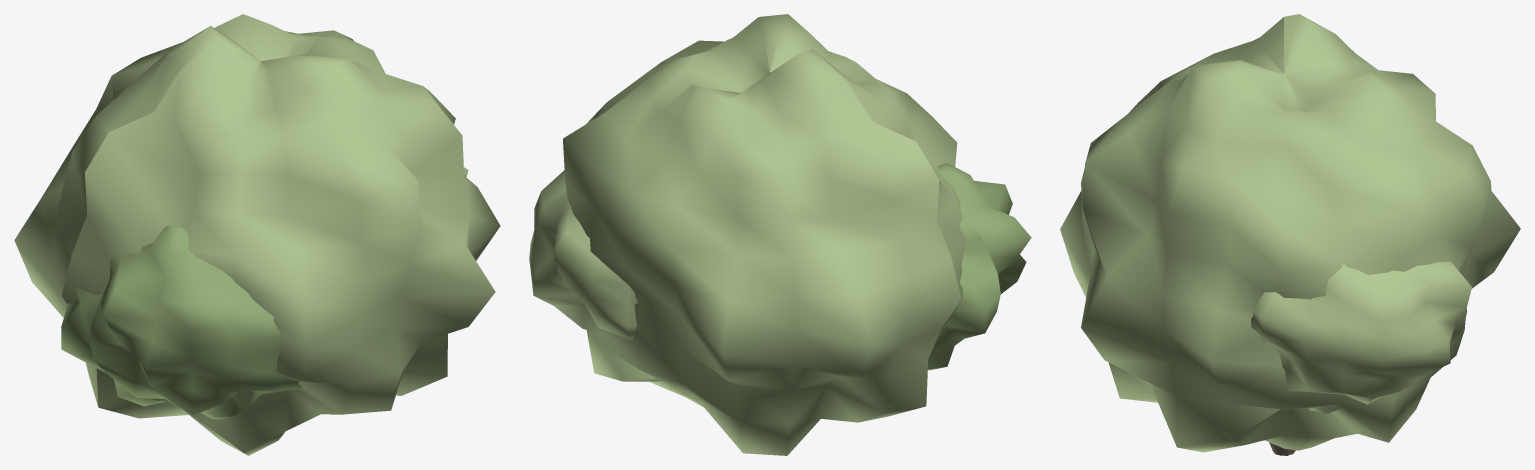
The model's file is egres.glb.
3 views of the same model, side by side, from view 1: azimuth 30°, elevation 25°; view 2: azimuth 150°, elevation 25°; view 3: azimuth 270°, elevation 25° (orthographic). The views are drawn at different scales.
Parts seen in each view (by area): view 1: lomb-1, lomb-2; view 2: lomb-1, lomb-3, lomb-2; view 3: lomb-1, lomb-3.
Boxes of the visible parts, x1,y1,x2,y2 form: lomb-1: (14,14,500,455); lomb-2: (61,225,302,419); lomb-1: (563,14,965,455); lomb-3: (529,170,638,339); lomb-2: (928,163,1031,370); lomb-1: (1060,14,1520,452); lomb-3: (1251,261,1471,413).
Size of the model in its own units: 1.48 by 1.4 by 1.4.
